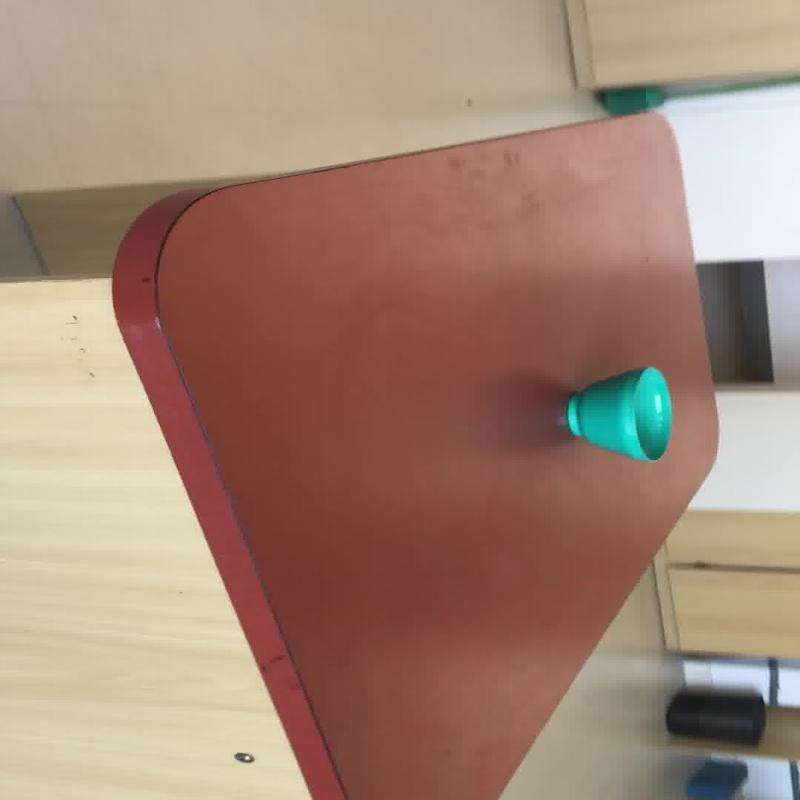bowl: (110, 109, 722, 798), (564, 366, 672, 462)
